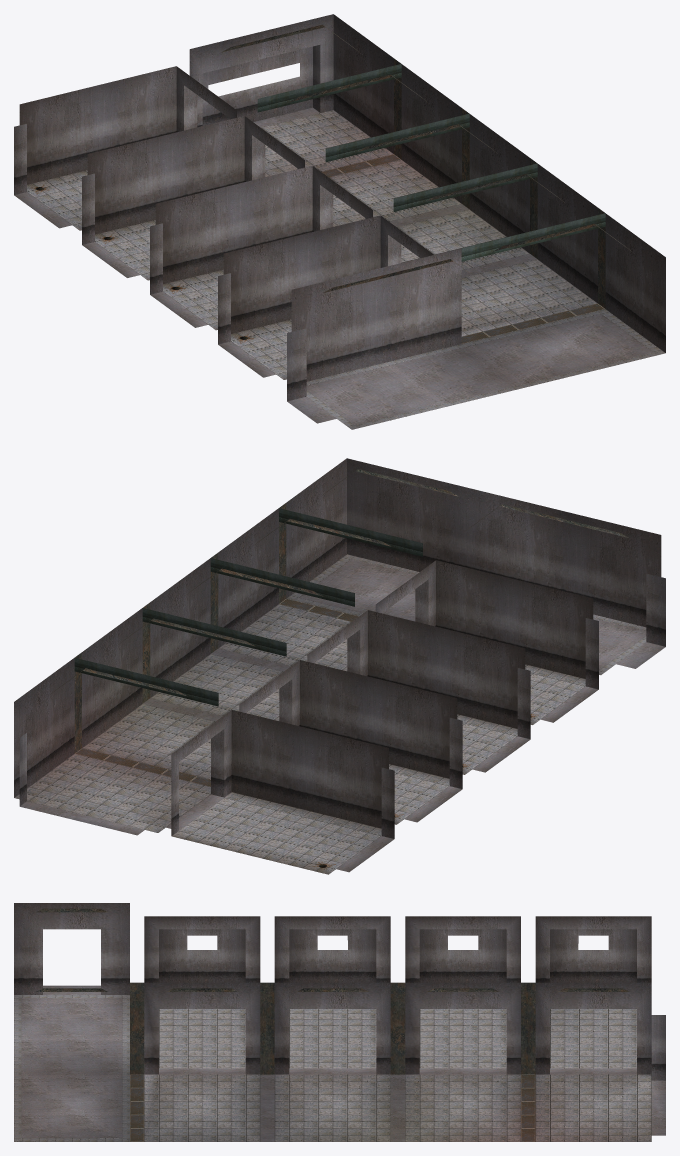
Rendered from M10_Z02BASE_21_INTERIOR.glb.
The picture shows the model from 3 angles, top to bottom: view 1: azimuth 30°, elevation 25°; view 2: azimuth 150°, elevation 25°; view 3: azimuth 270°, elevation 25°; orthographic projection. The views are drawn at different scales.
Visible parts, largest first — view 1: M10_Z02BASE_21_INTERIOR; view 2: M10_Z02BASE_21_INTERIOR; view 3: M10_Z02BASE_21_INTERIOR.
Part boxes in pixels (x1,y1,x2,y2): M10_Z02BASE_21_INTERIOR: (14, 14, 665, 429); M10_Z02BASE_21_INTERIOR: (14, 458, 665, 874); M10_Z02BASE_21_INTERIOR: (14, 903, 665, 1141).
Size of the model in its own units: 12.75 by 3.75 by 22.5.
7 materials, 7 textured.
